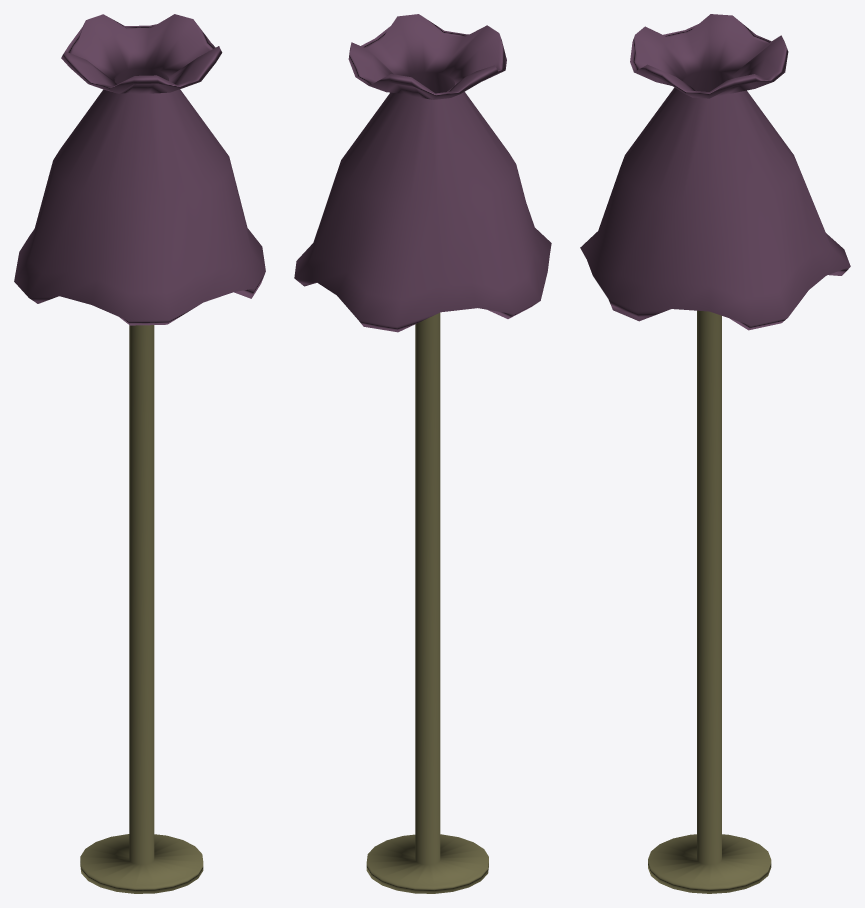
File: lvl1_weird_lamp.fbx
3 views of the same model, side by side, from view 1: azimuth 30°, elevation 25°; view 2: azimuth 150°, elevation 25°; view 3: azimuth 270°, elevation 25° (orthographic).
Parts seen in each view (by area): view 1: pCylinder6, pCylinder5; view 2: pCylinder6, pCylinder5; view 3: pCylinder6, pCylinder5.
Part boxes in pixels (x1=…): pCylinder6: x1=14, y1=14, x2=265, y2=325; pCylinder5: x1=80, y1=325, x2=203, y2=893; pCylinder6: x1=294, y1=14, x2=551, y2=332; pCylinder5: x1=366, y1=313, x2=488, y2=893; pCylinder6: x1=580, y1=14, x2=850, y2=330; pCylinder5: x1=648, y1=310, x2=771, y2=893.
Bounding box in the file's own units: 365 × 1283 × 382.
